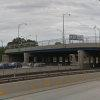Bridge: (10, 36, 99, 65)
